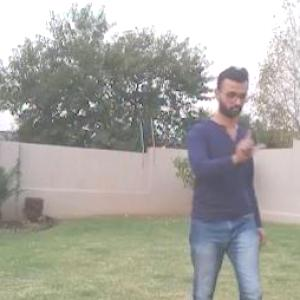land_hand: (224, 115, 266, 170)
